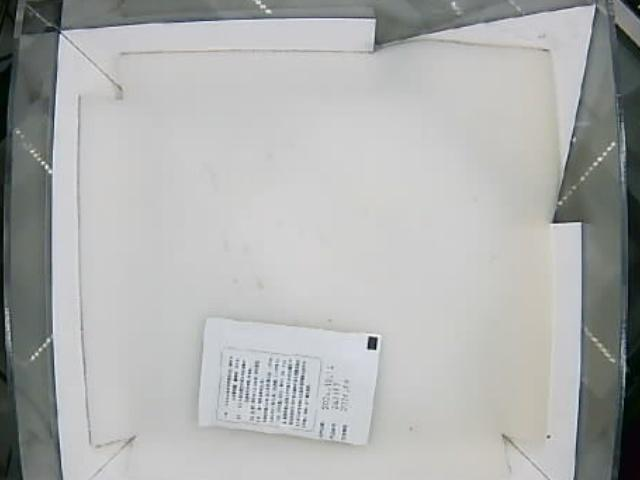Medicine: (187, 314, 384, 444)
